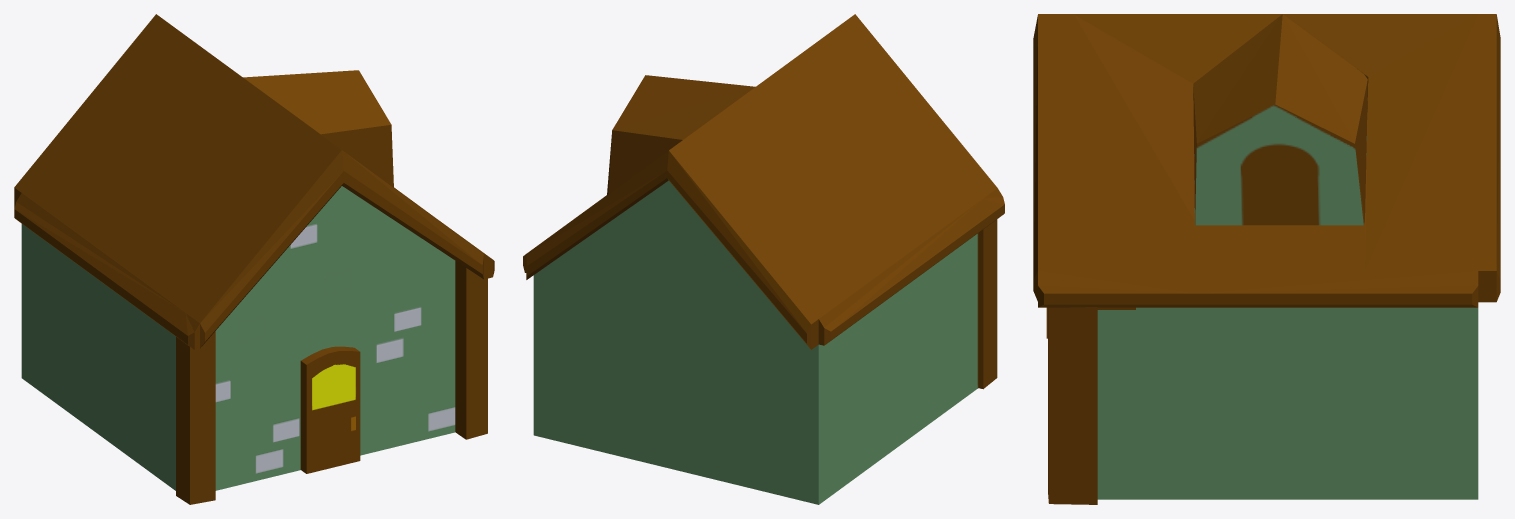
Rendered from Greenhouse.fbx.
The picture shows the model from 3 angles, left to right: view 1: azimuth 30°, elevation 25°; view 2: azimuth 150°, elevation 25°; view 3: azimuth 270°, elevation 25°; orthographic projection. The views are drawn at different scales.
Parts seen in each view (by area): view 1: pCube1, pCube2; view 2: pCube1; view 3: pCube1.
Part boxes in pixels (x1=…): pCube1: x1=14, y1=14, x2=494, y2=504; pCube2: x1=300, y1=346, x2=360, y2=473; pCube1: x1=523, y1=14, x2=1004, y2=504; pCube1: x1=1033, y1=14, x2=1500, y2=504.
Size of the model in its own units: 7.43 by 7.49 by 7.93.
